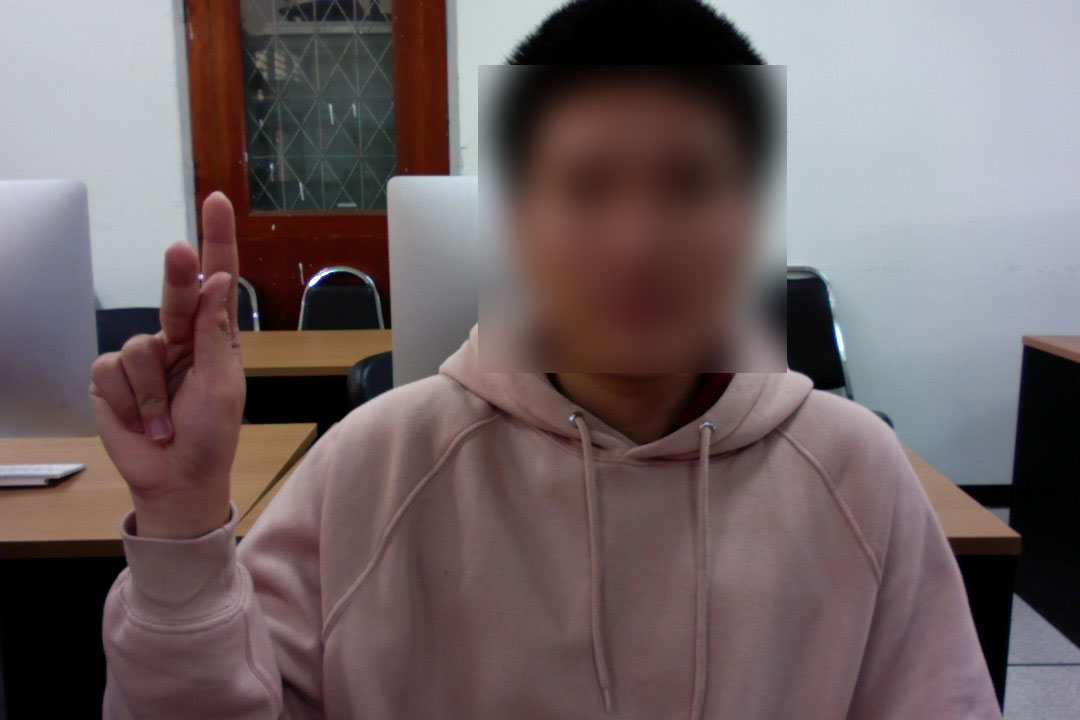ko: (85, 186, 254, 514)
